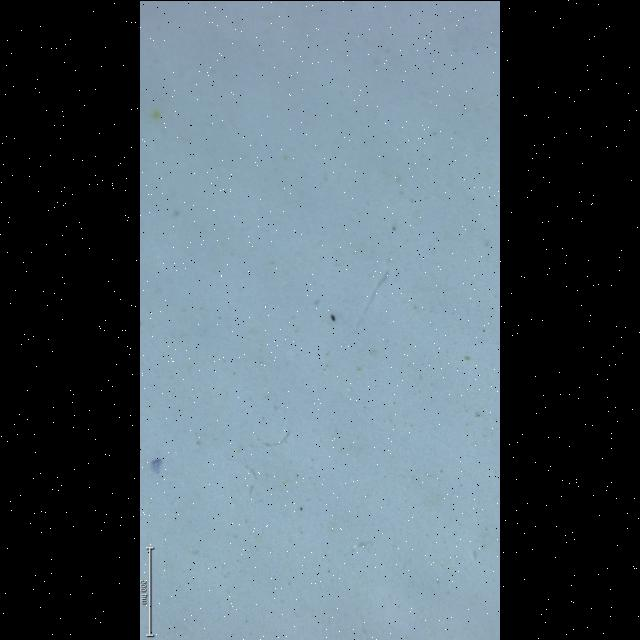Fibre: (356, 269, 389, 326), (263, 429, 290, 446)
Fragment: (151, 458, 162, 472)
